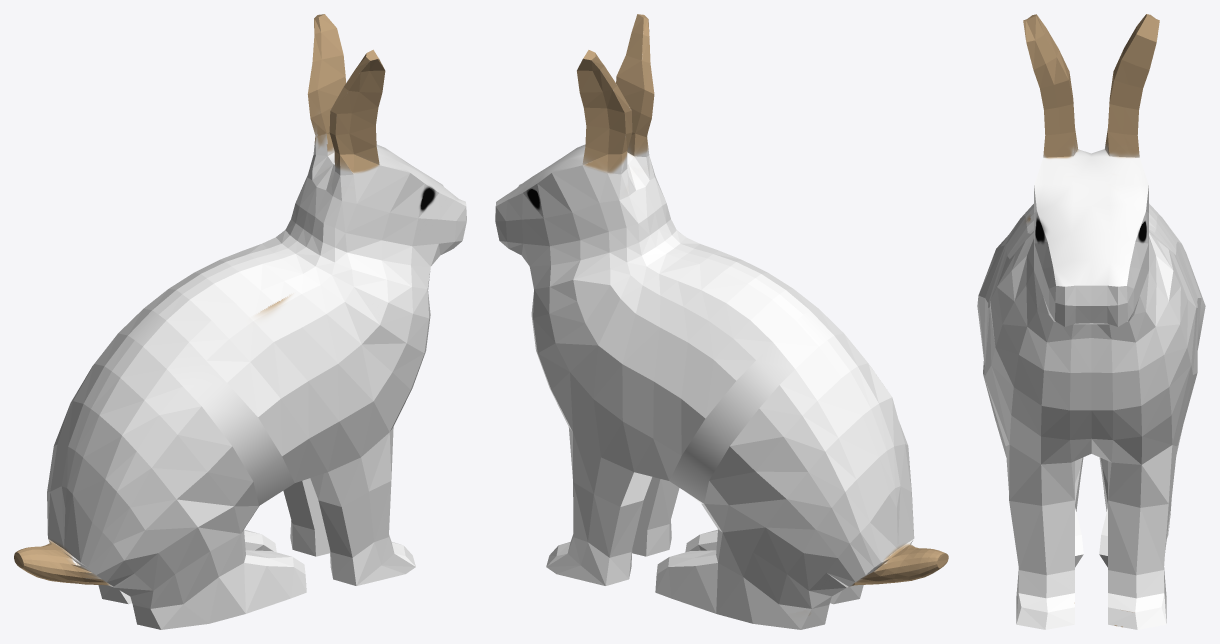
The model's file is Bunny.fbx.
3 renders of one model, left to right at view 1: azimuth 30°, elevation 25°; view 2: azimuth 150°, elevation 25°; view 3: azimuth 270°, elevation 25°, orthographic. The views are drawn at different scales.
Parts seen in each view (by area): view 1: Box001; view 2: Box001; view 3: Box001.
Part boxes in pixels (x1,y1,x2,y2): Box001: (14,14,466,629); Box001: (495,14,948,629); Box001: (977,14,1205,629).
Size of the model in its own units: 1245 by 1428 by 496.
